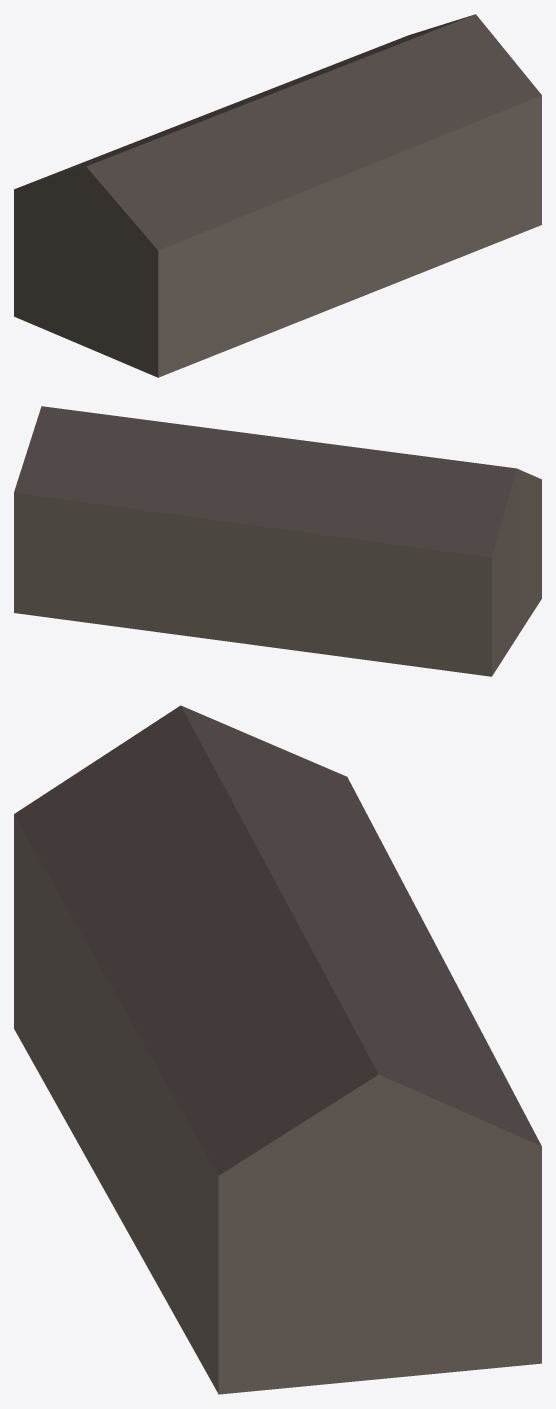
3 renders of one model, top to bottom at view 1: azimuth 30°, elevation 25°; view 2: azimuth 150°, elevation 25°; view 3: azimuth 270°, elevation 25°, orthographic. The views are drawn at different scales.
Visible parts, largest first — view 1: HP-w1198842232; view 2: HP-w1198842232; view 3: HP-w1198842232.
Boxes of the visible parts, x1,y1,x2,y2 form: HP-w1198842232: (14,14,541,377); HP-w1198842232: (14,406,541,676); HP-w1198842232: (14,705,541,1394).
Bounding box in the file's own units: 24.18 × 8.52 × 13.38.
